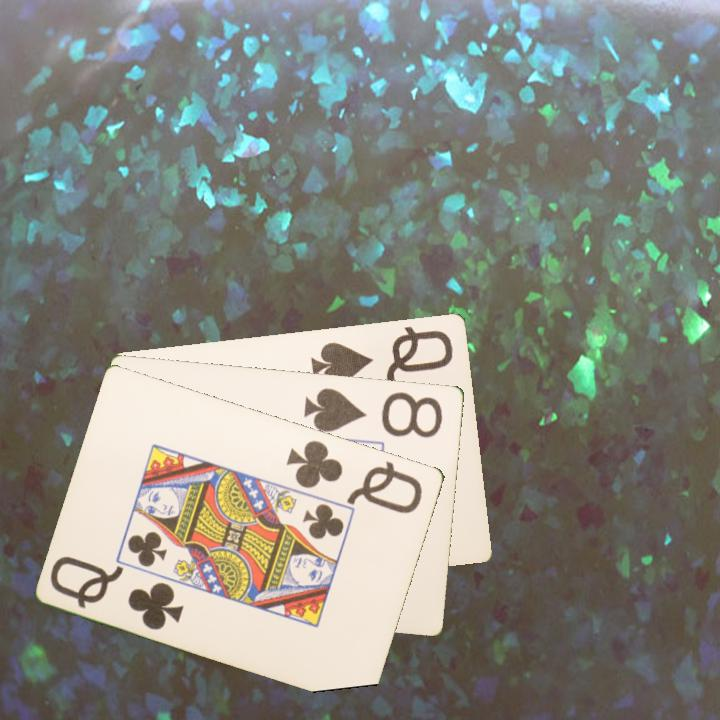8s: (301, 384, 446, 441)
Qc: (283, 436, 426, 517), (47, 552, 187, 633)
Qs: (307, 322, 457, 389)
